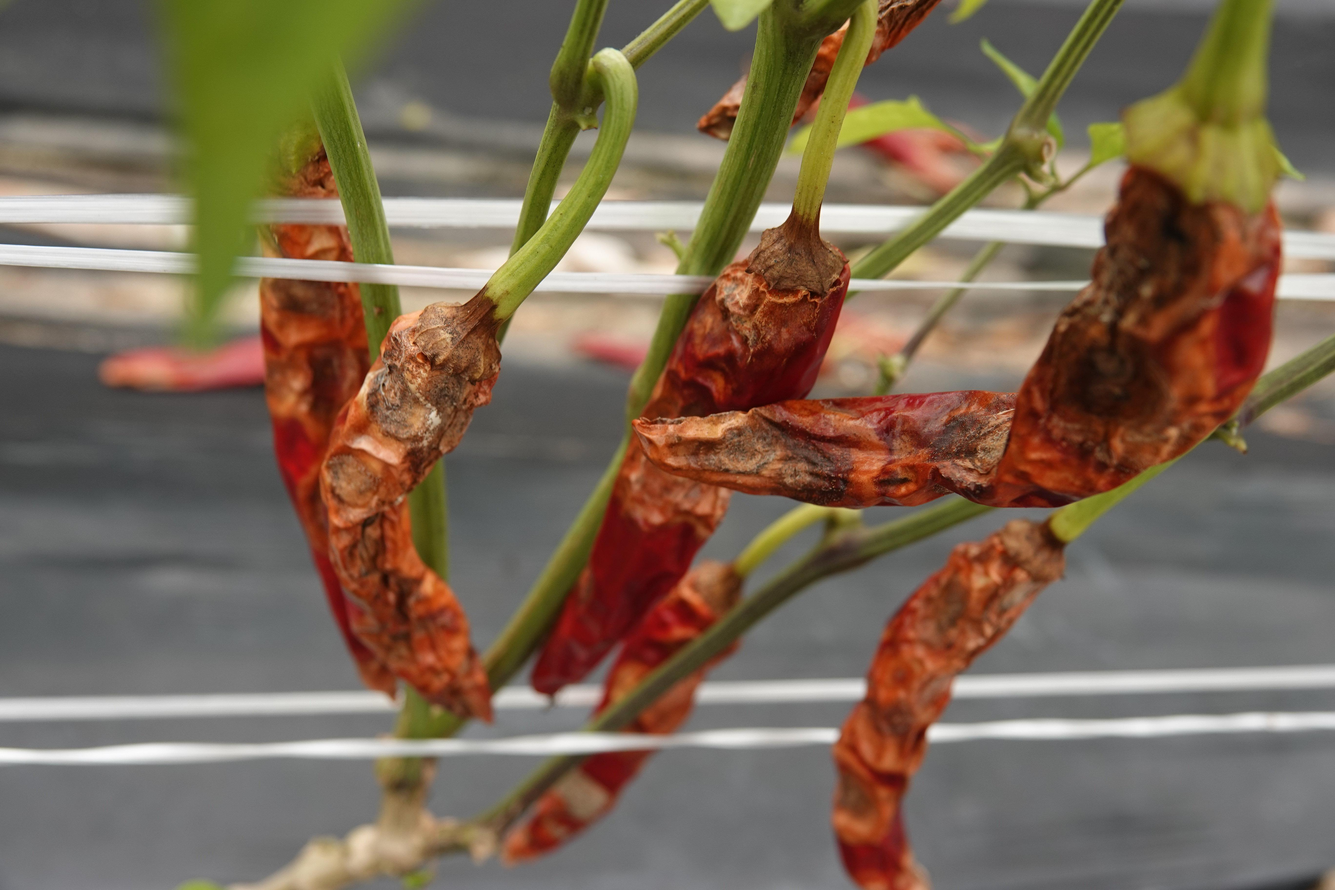Busuk Buah Antraknosa: (629, 125, 1285, 518), (527, 222, 854, 701), (825, 513, 1080, 890), (320, 294, 503, 740)
